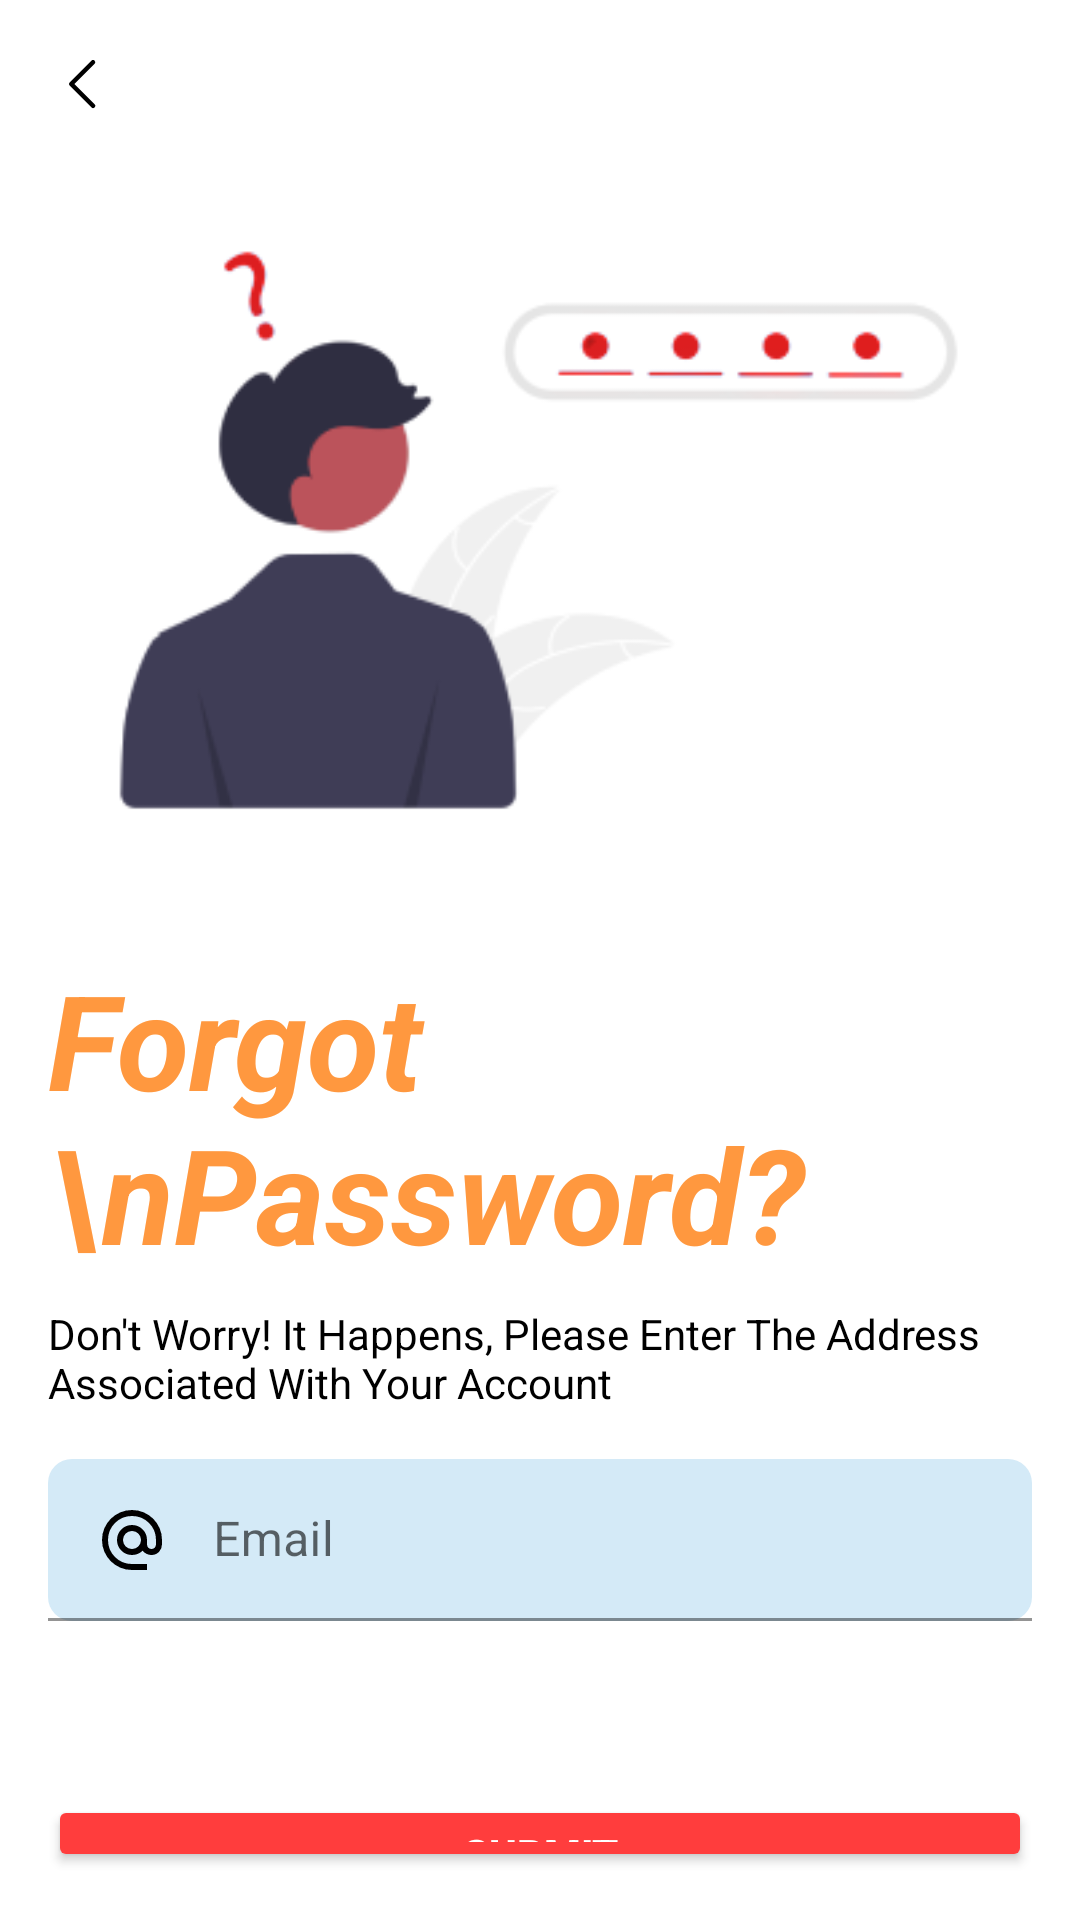

Screen size 1080w x 1920h. Icon name, then its center in pixels as (x=x, y=y):
Button Back: (x=82, y=84)
